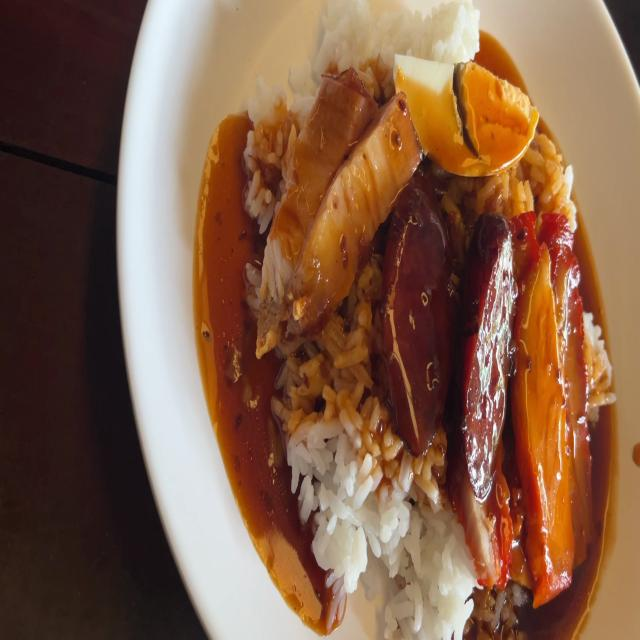01boiled_egg: (388, 48, 537, 171)
01chainese_sausage: (389, 186, 507, 468), (385, 196, 460, 432), (464, 214, 505, 492)
01crispy_pork: (256, 80, 410, 336), (285, 108, 416, 320), (258, 76, 359, 332)
01red_pork: (511, 220, 594, 595)
01red_pork_and_crispy_pork: (249, 0, 606, 640)
01rice: (286, 336, 388, 584), (368, 486, 480, 632)
